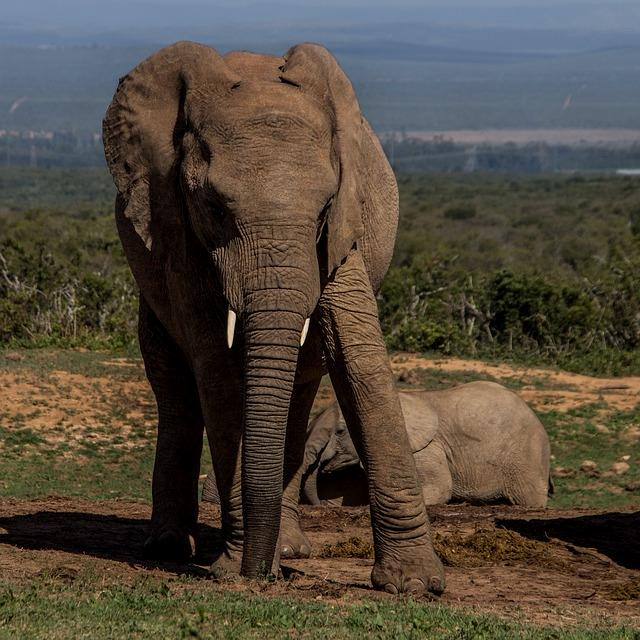FIL: (112, 36, 443, 598), (293, 378, 556, 525)
